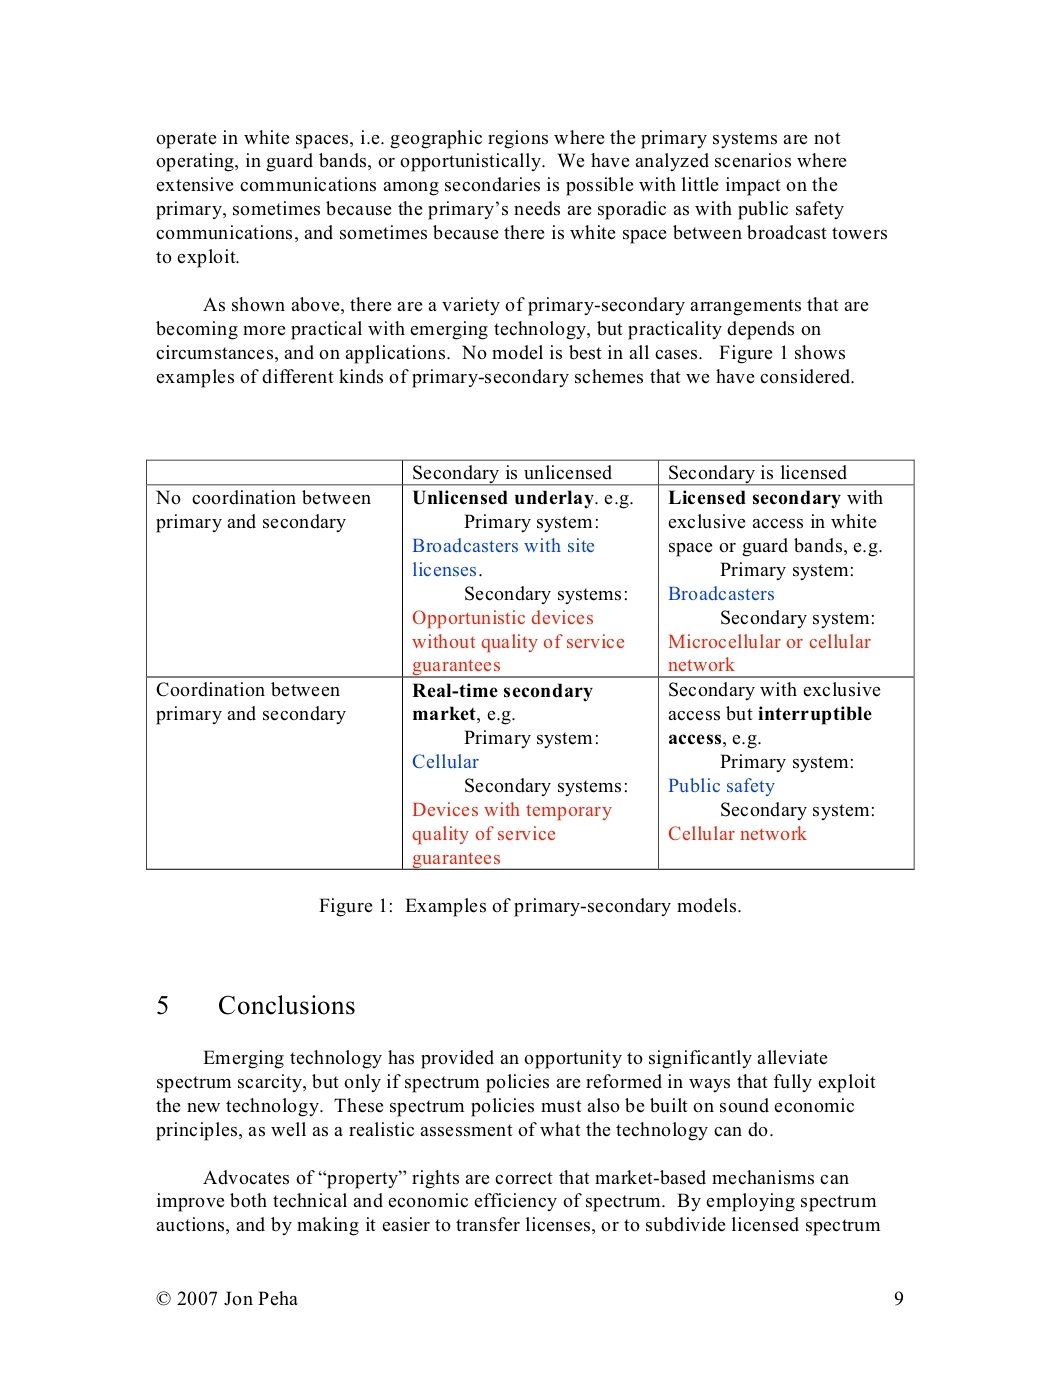Table: (146, 458, 914, 870)
